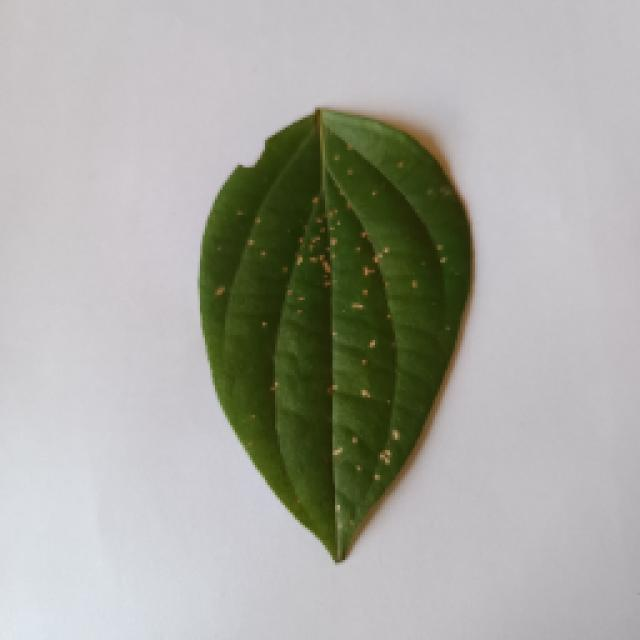pollu-disease: (195, 108, 473, 560)
